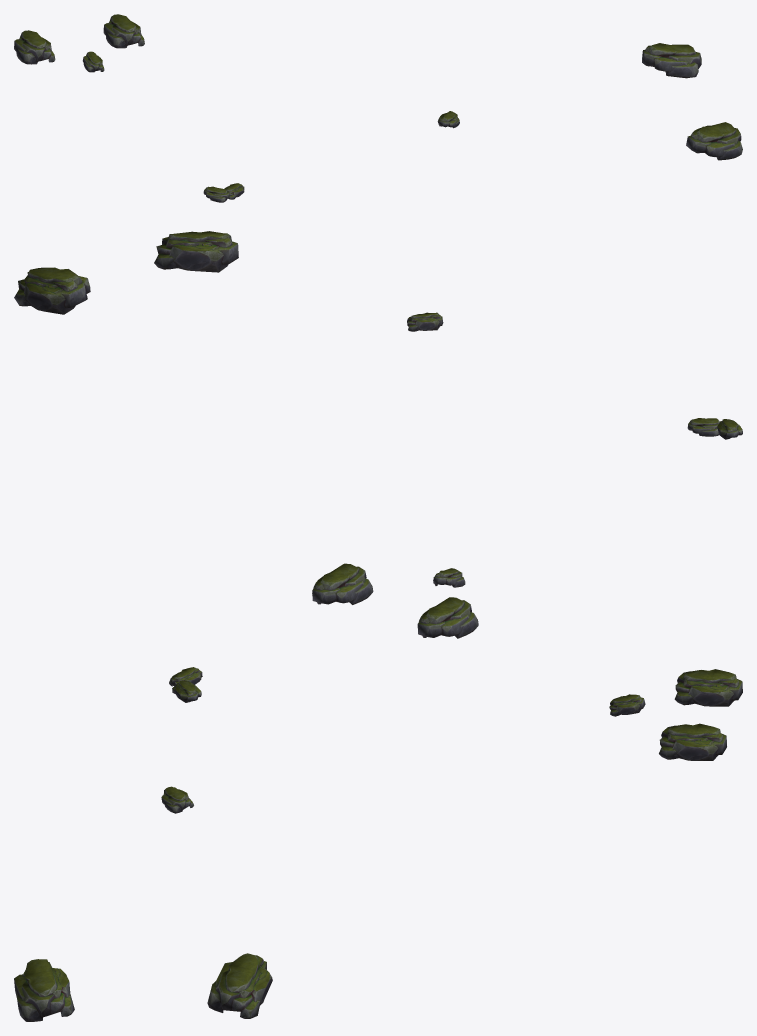
The model's file is RockBlockOne.FBX.
3 renders of one model, top to bottom at view 1: azimuth 30°, elevation 25°; view 2: azimuth 150°, elevation 25°; view 3: azimuth 270°, elevation 25°, orthographic. The views are drawn at different scales.
Visible parts, largest first — view 1: BigRock004; view 2: BigRock004; view 3: BigRock004.
Part boxes in pixels (box(x1,y1,x2,y2)): BigRock004: box(14, 14, 742, 202); BigRock004: box(14, 231, 742, 638); BigRock004: box(14, 667, 742, 1021).
Size of the model in its own units: 878 by 94.83 by 808.
